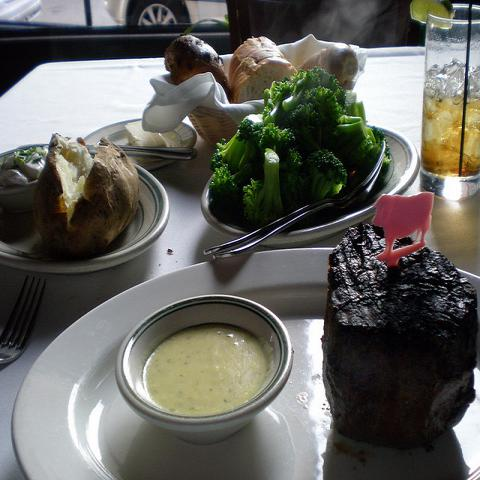car: (101, 2, 230, 28)
